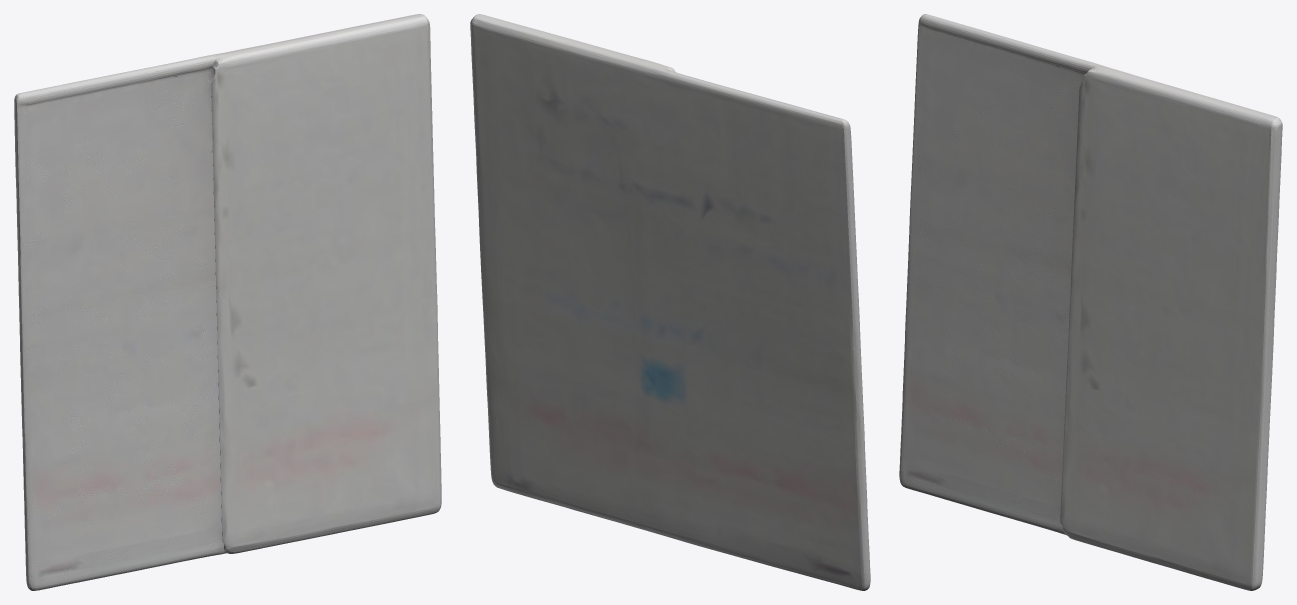
File: paper_poster_on_the_back_wall_000.glb
3 renders of one model, left to right at view 1: azimuth 30°, elevation 25°; view 2: azimuth 150°, elevation 25°; view 3: azimuth 330°, elevation 25°, orthographic. The views are drawn at different scales.
Visible parts, largest first — view 1: paper_poster_on_the_back_wall_000.obj; view 2: paper_poster_on_the_back_wall_000.obj; view 3: paper_poster_on_the_back_wall_000.obj.
Part boxes in pixels (bbox=[...]): paper_poster_on_the_back_wall_000.obj: bbox=[14, 14, 441, 590]; paper_poster_on_the_back_wall_000.obj: bbox=[470, 14, 870, 590]; paper_poster_on_the_back_wall_000.obj: bbox=[899, 14, 1282, 590].
Bounding box in the file's own units: 0.3011 × 0.3494 × 0.0537.
1 material, 1 textured.
